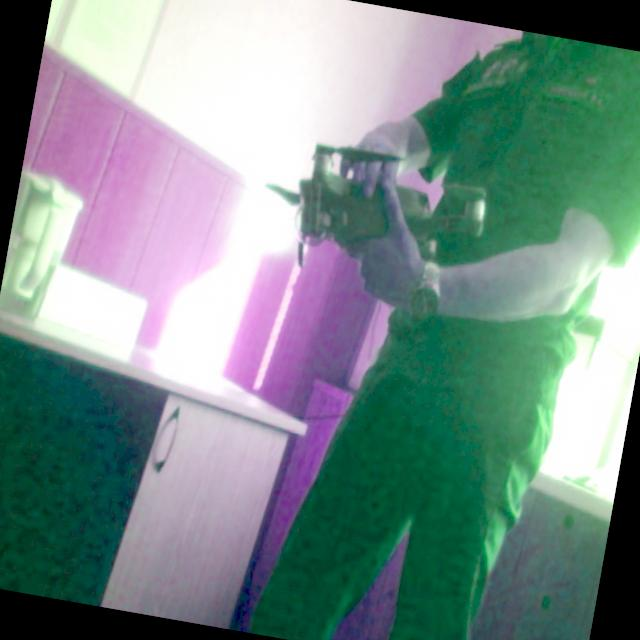drone: (252, 120, 520, 298)
